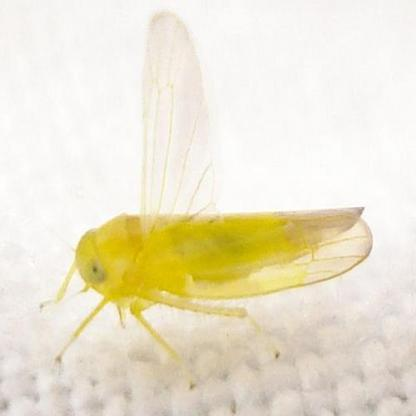green-leafhopper: (42, 10, 373, 393)
